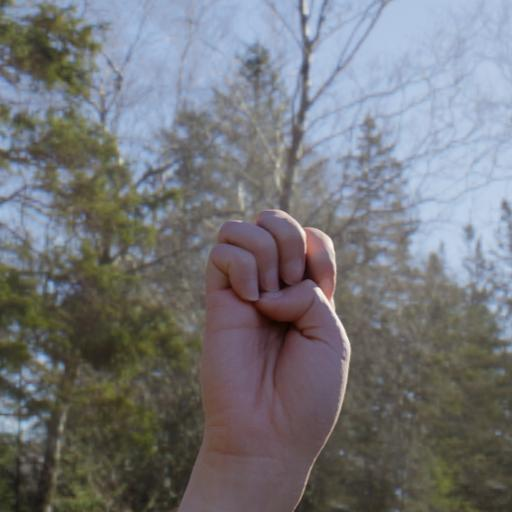E: (187, 195, 369, 500)
